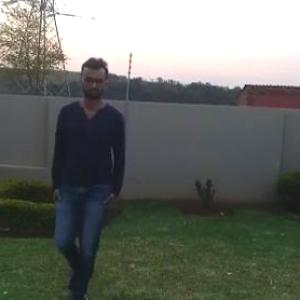follow: (55, 51, 131, 299)
